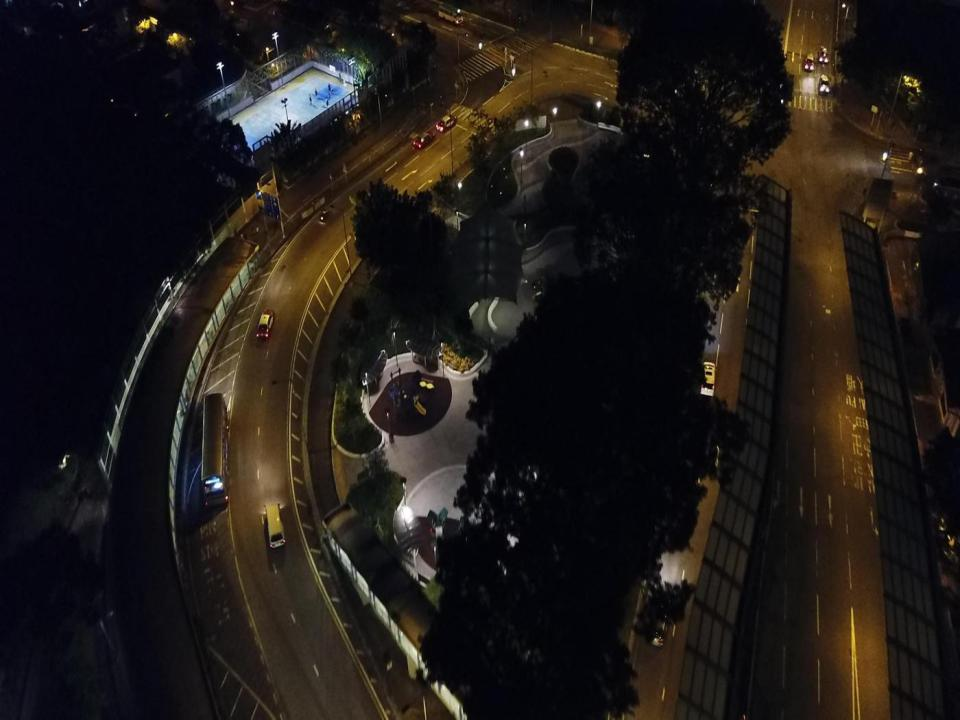bus: (201, 393, 230, 509), (438, 1, 464, 26)
car: (263, 503, 286, 548), (648, 604, 671, 647), (255, 308, 275, 340), (700, 361, 717, 397), (436, 112, 458, 134), (412, 130, 435, 149), (818, 74, 830, 95), (804, 52, 814, 72), (818, 46, 829, 64)
